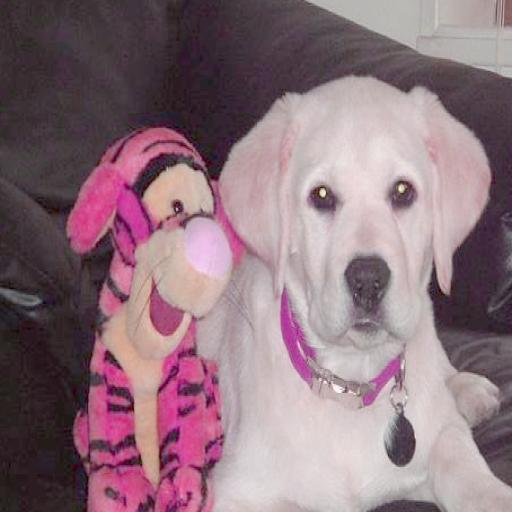dog_face: (248, 79, 487, 362)
